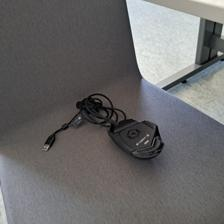mouse: (106, 117, 164, 159)
